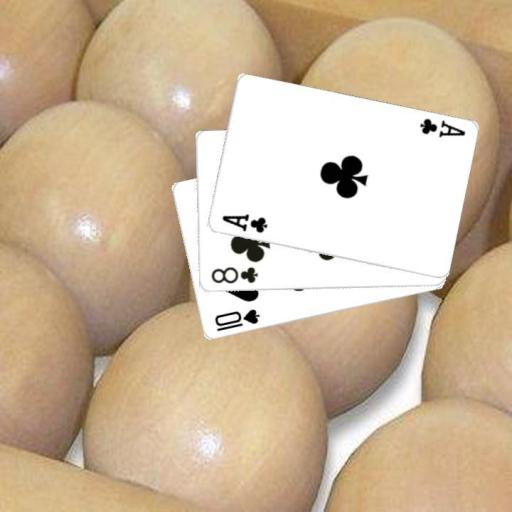10S: (211, 306, 261, 333)
8C: (208, 264, 259, 286)
AC: (218, 212, 269, 236), (416, 116, 466, 140)
